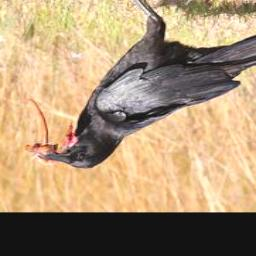Crow: (13, 0, 256, 175)
